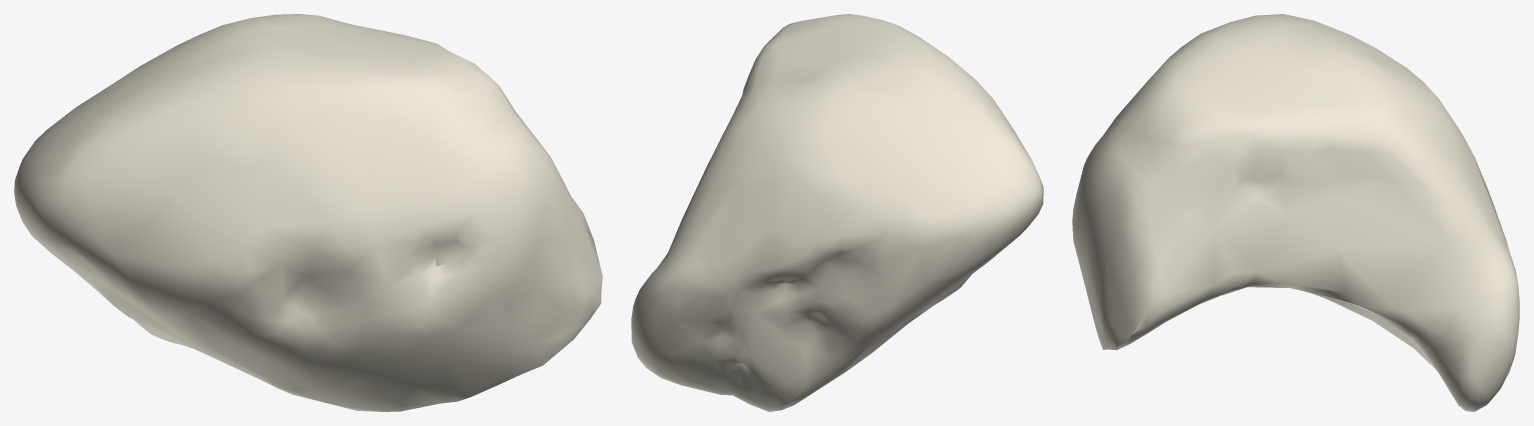
The model's file is fma24438_mm1897m.glb.
3 renders of one model, left to right at view 1: azimuth 30°, elevation 25°; view 2: azimuth 150°, elevation 25°; view 3: azimuth 270°, elevation 25°, orthographic. The views are drawn at different scales.
Visible parts, largest first — view 1: FMA24438_MM1897M; view 2: FMA24438_MM1897M; view 3: FMA24438_MM1897M.
Part boxes in pixels (<box>): FMA24438_MM1897M: <box>14,14,602,411</box>; FMA24438_MM1897M: <box>631,14,1043,411</box>; FMA24438_MM1897M: <box>1072,14,1519,411</box>.
Size of the model in its own units: 0.017 by 0.0133 by 0.0166.
